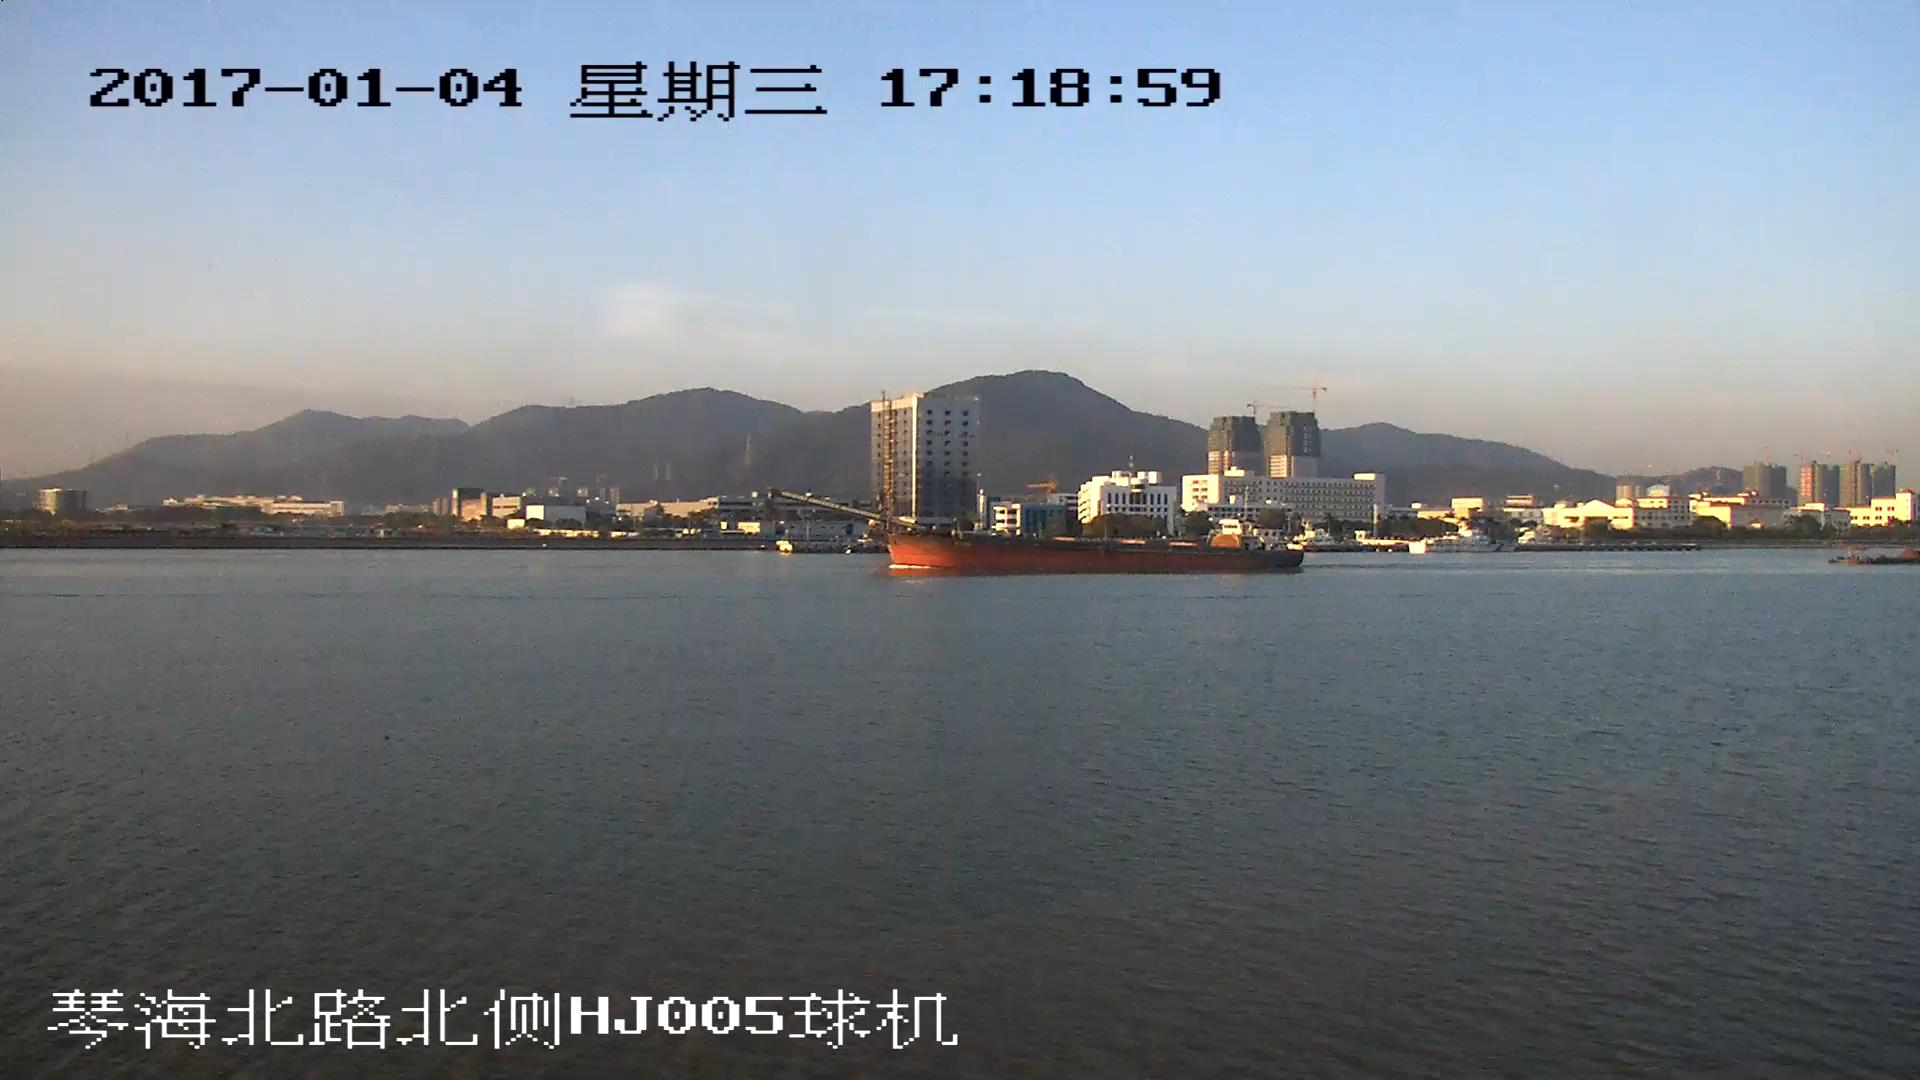bulk cargo carrier: (771, 492, 1309, 573)
